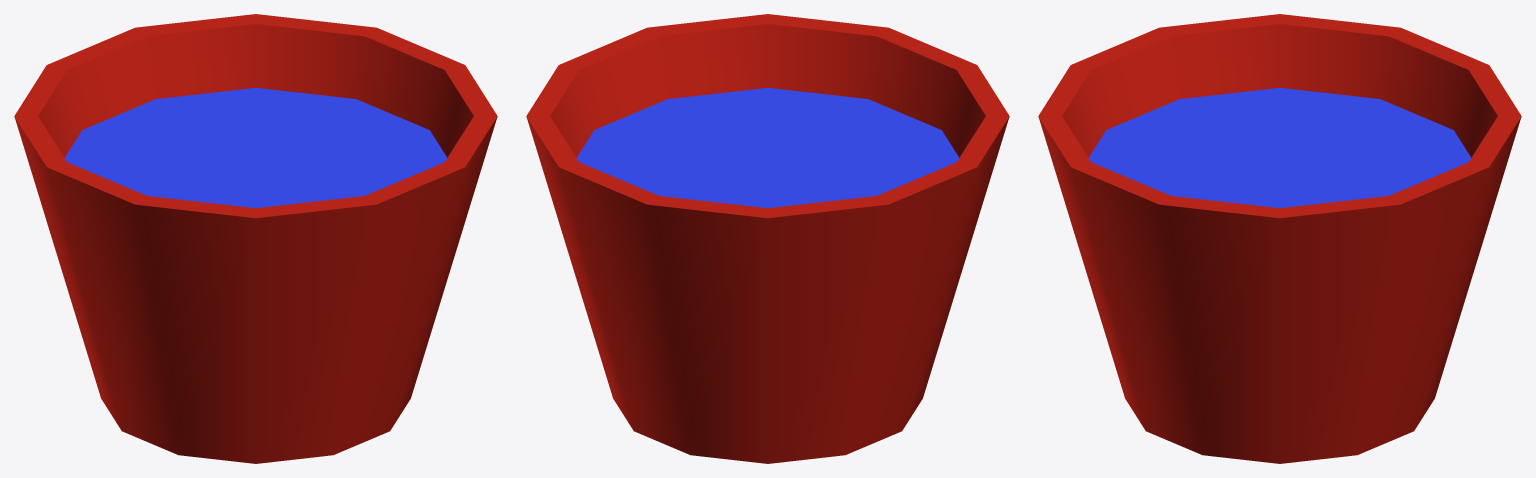
Rendered from coc cocacola.FBX.
The picture shows the model from 3 angles, left to right: view 1: azimuth 30°, elevation 25°; view 2: azimuth 150°, elevation 25°; view 3: azimuth 270°, elevation 25°; orthographic projection.
Parts seen in each view (by area): view 1: Cylinder124; view 2: Cylinder124; view 3: Cylinder124.
Boxes of the visible parts, left/top/right/bottom form: Cylinder124: left=14, top=14, right=497, bottom=463; Cylinder124: left=526, top=14, right=1009, bottom=463; Cylinder124: left=1038, top=14, right=1521, bottom=463.
Size of the model in its own units: 1.28 by 0.8228 by 1.28.
